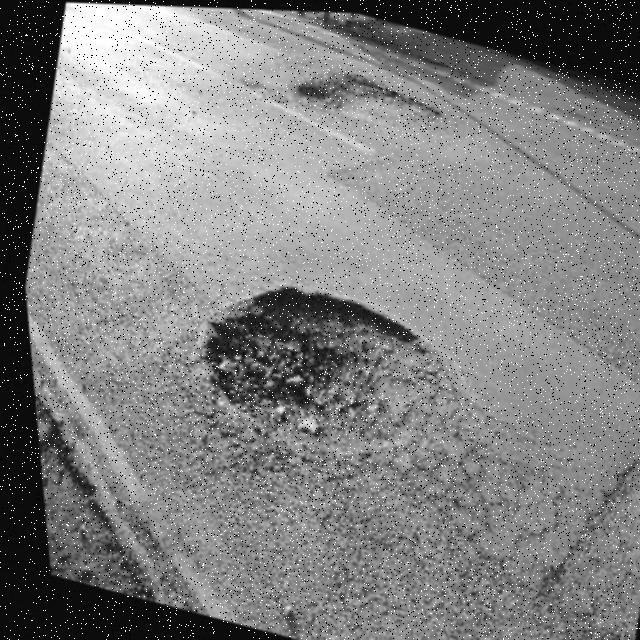pothole: (170, 256, 462, 483), (286, 54, 448, 145)
